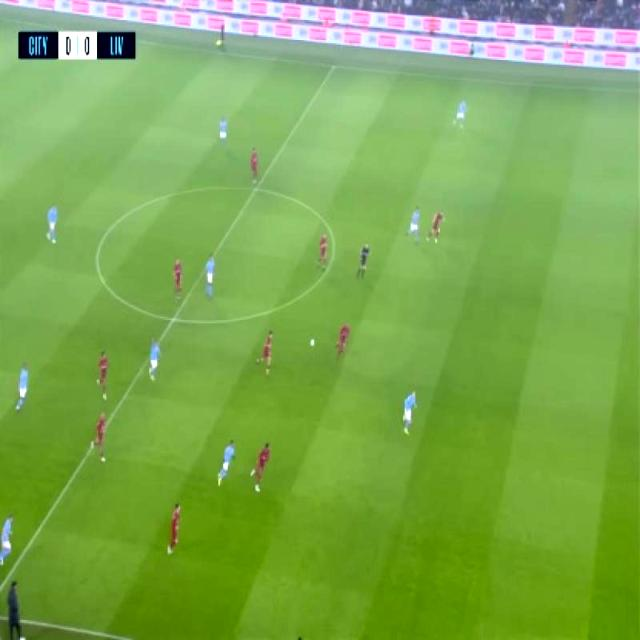halfcircle_bottom: (160, 303, 186, 334)
halfcircle_top: (246, 178, 264, 198)
midline_top_intersection: (325, 57, 340, 75)
